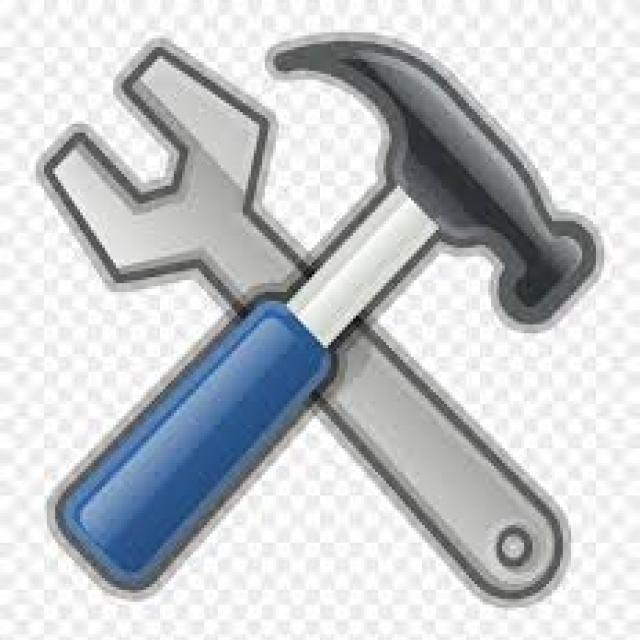hammer: (245, 26, 593, 336)
wrench: (33, 35, 280, 308)
